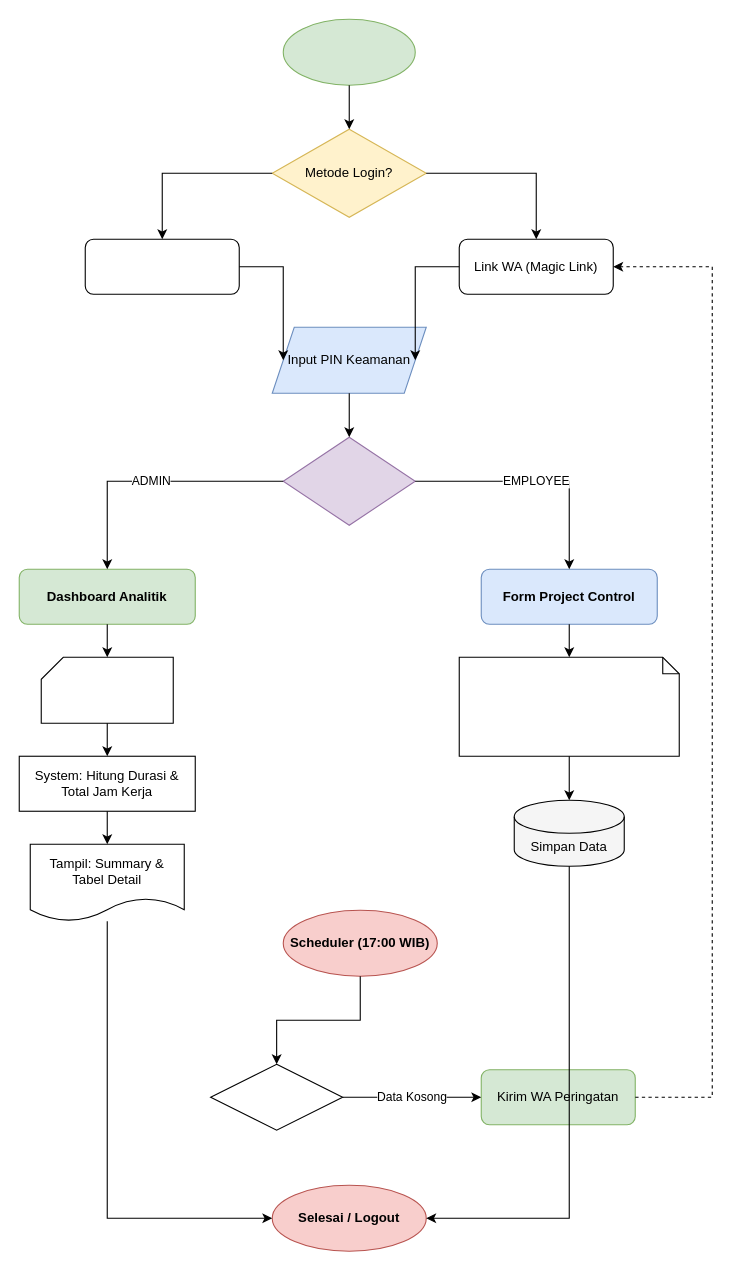
Image size: 740x1271. Some labels were removed from this diagram. The centre of each missing label's shape, as x and y in pixels:
"Cek Laporan Hari Ini" belongs at (x=276, y=1096).
"Cek Role User" belongs at (x=348, y=480).
"Filter Tanggal (Start - End Date)" belongs at (x=106, y=689).
"Input Detail: - Project & Activity - Start/End Time - File Upload (Opsional)" belongs at (x=568, y=706).
"Manual (Dropdown)" belongs at (x=161, y=266).
"Mulai" belongs at (x=348, y=51).
